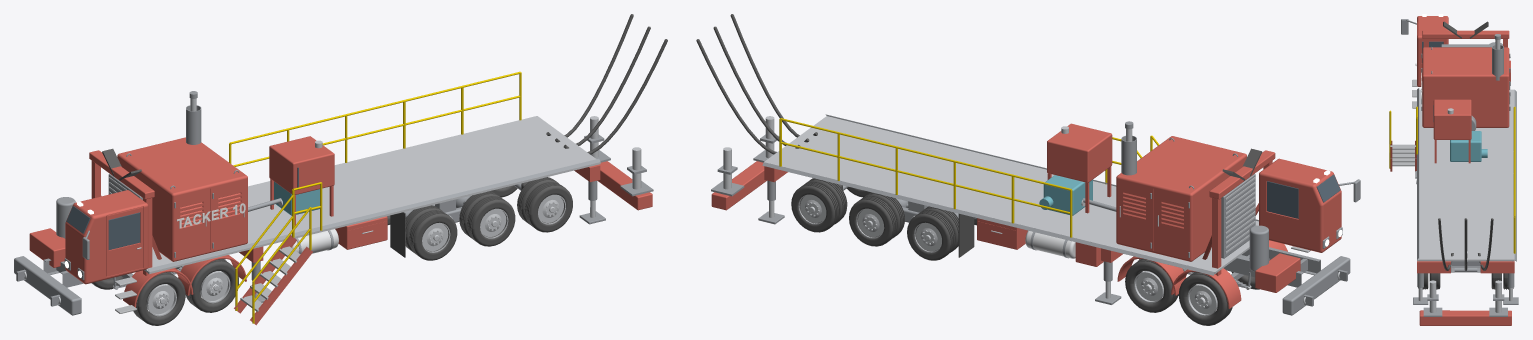
Rendered from sk575_carrier.glb.
3 views of the same model, side by side, from view 1: azimuth 30°, elevation 25°; view 2: azimuth 150°, elevation 25°; view 3: azimuth 270°, elevation 25° (orthographic). The views are drawn at different scales.
Visible parts, largest first — view 1: sk575_carrier_acero, sk575_carrier_rojo, sk575_carrier_goma, sk575_motor_rojo, sk575_carrier_acero_oscuro, sk575_cabina_rojo, sk575_carrier_amarillo, sk575_motor_acero_oscuro, sk575_cabina_vidrio, sk575_carrier_grating, sk575_carrier_azul, sk575_carrier_aluminio; view 2: sk575_carrier_acero, sk575_carrier_rojo, sk575_carrier_goma, sk575_motor_rojo, sk575_carrier_acero_oscuro, sk575_cabina_rojo, sk575_motor_acero_oscuro, sk575_carrier_amarillo, sk575_carrier_azul, sk575_cabina_vidrio, sk575_motor_acero, sk575_carrier_aluminio; view 3: sk575_carrier_acero, sk575_motor_rojo, sk575_carrier_rojo, sk575_carrier_acero_oscuro, sk575_carrier_goma, sk575_carrier_azul, sk575_cabina_rojo, sk575_motor_acero_oscuro, sk575_carrier_amarillo, sk575_carrier_grating, sk575_cabina_acero_oscuro, sk575_cabina_vidrio (+2 smaller).
Boxes of the visible parts, x1,y1,x2,y2 form: sk575_carrier_acero: (24, 116, 641, 316); sk575_carrier_rojo: (29, 136, 652, 325); sk575_carrier_goma: (91, 14, 667, 325); sk575_motor_rojo: (117, 137, 247, 261); sk575_carrier_acero_oscuro: (14, 134, 653, 315); sk575_cabina_rojo: (65, 190, 148, 284); sk575_carrier_amarillo: (229, 71, 521, 323); sk575_motor_acero_oscuro: (56, 91, 281, 257); sk575_cabina_vidrio: (66, 206, 140, 249); sk575_carrier_grating: (240, 246, 300, 311); sk575_carrier_azul: (274, 181, 319, 215); sk575_carrier_aluminio: (291, 229, 338, 253); sk575_carrier_acero: (723, 116, 1339, 316); sk575_carrier_rojo: (711, 123, 1300, 308); sk575_carrier_goma: (696, 14, 1262, 325); sk575_motor_rojo: (1116, 136, 1246, 261); sk575_carrier_acero_oscuro: (711, 114, 1350, 315); sk575_cabina_rojo: (1259, 158, 1341, 252); sk575_motor_acero_oscuro: (1082, 121, 1268, 271); sk575_carrier_amarillo: (779, 118, 1159, 237); sk575_carrier_azul: (1039, 175, 1092, 215); sk575_cabina_vidrio: (1267, 174, 1340, 218); sk575_motor_acero: (1081, 129, 1255, 253); sk575_carrier_aluminio: (1025, 230, 1075, 258); sk575_carrier_acero: (1416, 89, 1514, 312); sk575_motor_rojo: (1422, 47, 1509, 127); sk575_carrier_rojo: (1390, 30, 1514, 325); sk575_carrier_acero_oscuro: (1413, 82, 1518, 316); sk575_carrier_goma: (1418, 21, 1513, 289); sk575_carrier_azul: (1450, 131, 1487, 161); sk575_cabina_rojo: (1417, 16, 1448, 86); sk575_motor_acero_oscuro: (1421, 34, 1510, 130); sk575_carrier_amarillo: (1389, 106, 1515, 253); sk575_carrier_grating: (1390, 144, 1416, 166); sk575_cabina_acero_oscuro: (1401, 19, 1416, 34); sk575_cabina_vidrio: (1422, 41, 1443, 62).
Size of the model in its own units: 14.57 by 4.06 by 3.42.
